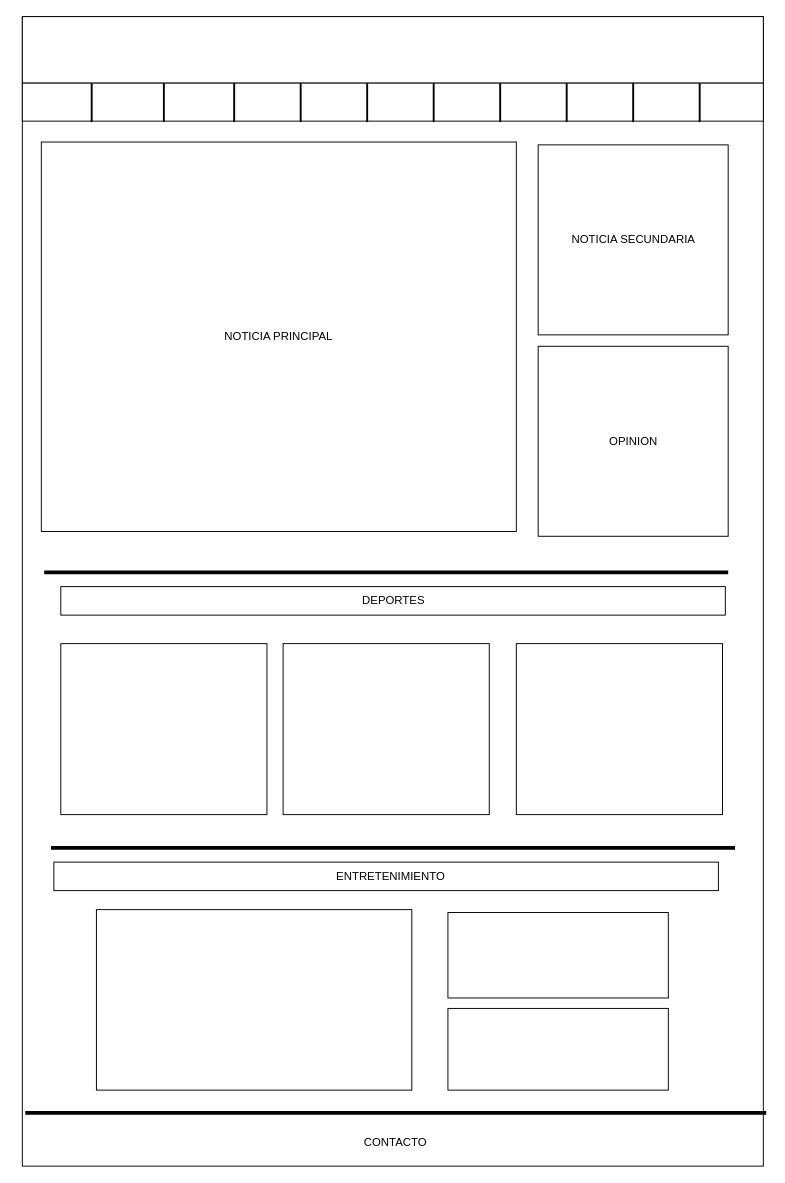
The diagram is 785 pixels wide and 1183 high, and some of its shapes have lost their labels. Here are the shapes that lost their labels. From the top down, the box of each, then its label:
(21, 16, 763, 83): TITULO
(21, 82, 763, 121): BOTÓN
